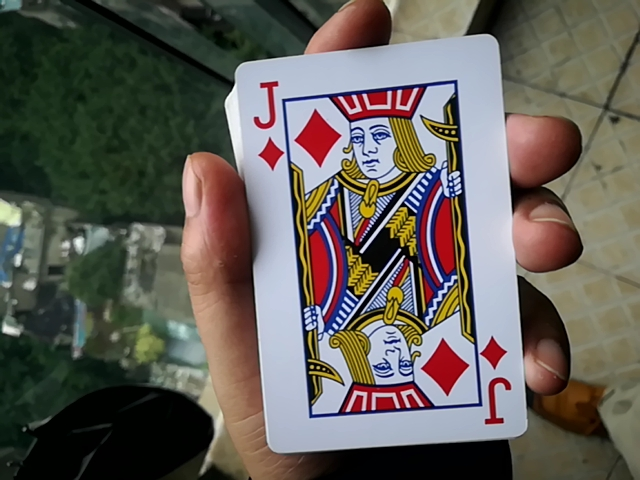fk j: (211, 43, 535, 451)
